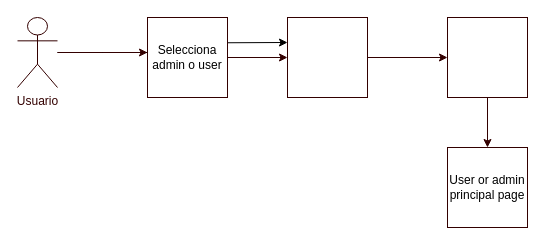
Image size: 545x245. Some labels were removed from this diagram. The shapes that lost their labels are listed below. From the top down, each one's centre as x and y in pixels, then its label:
At point (327, 57): "form admin or user".
At point (487, 57): "User o admin validation".
